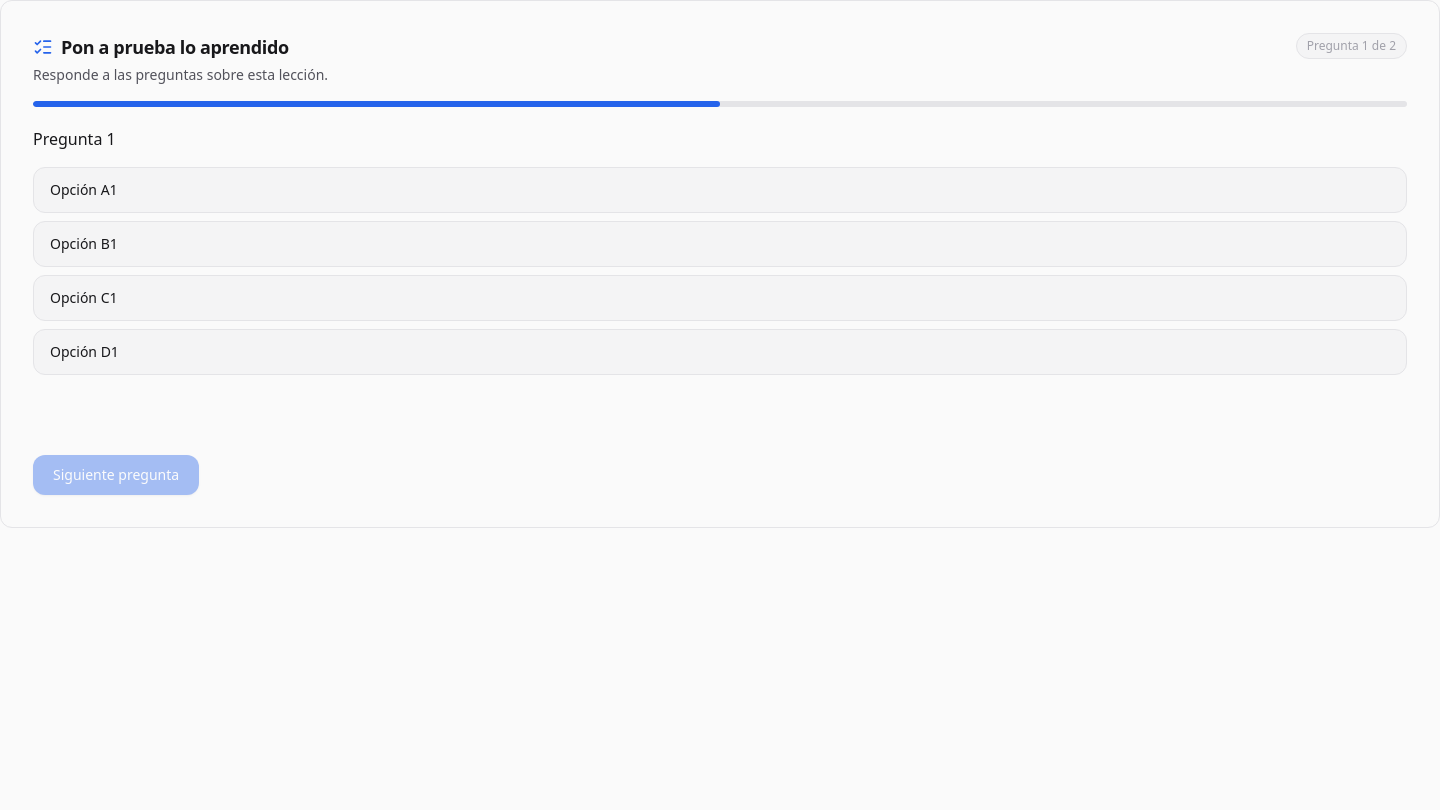
it: LessonQuiz › registra el resultado final y otorga XP e insignias
Click the button "Opción B1" at (84, 244), box [33,221,1407,267]
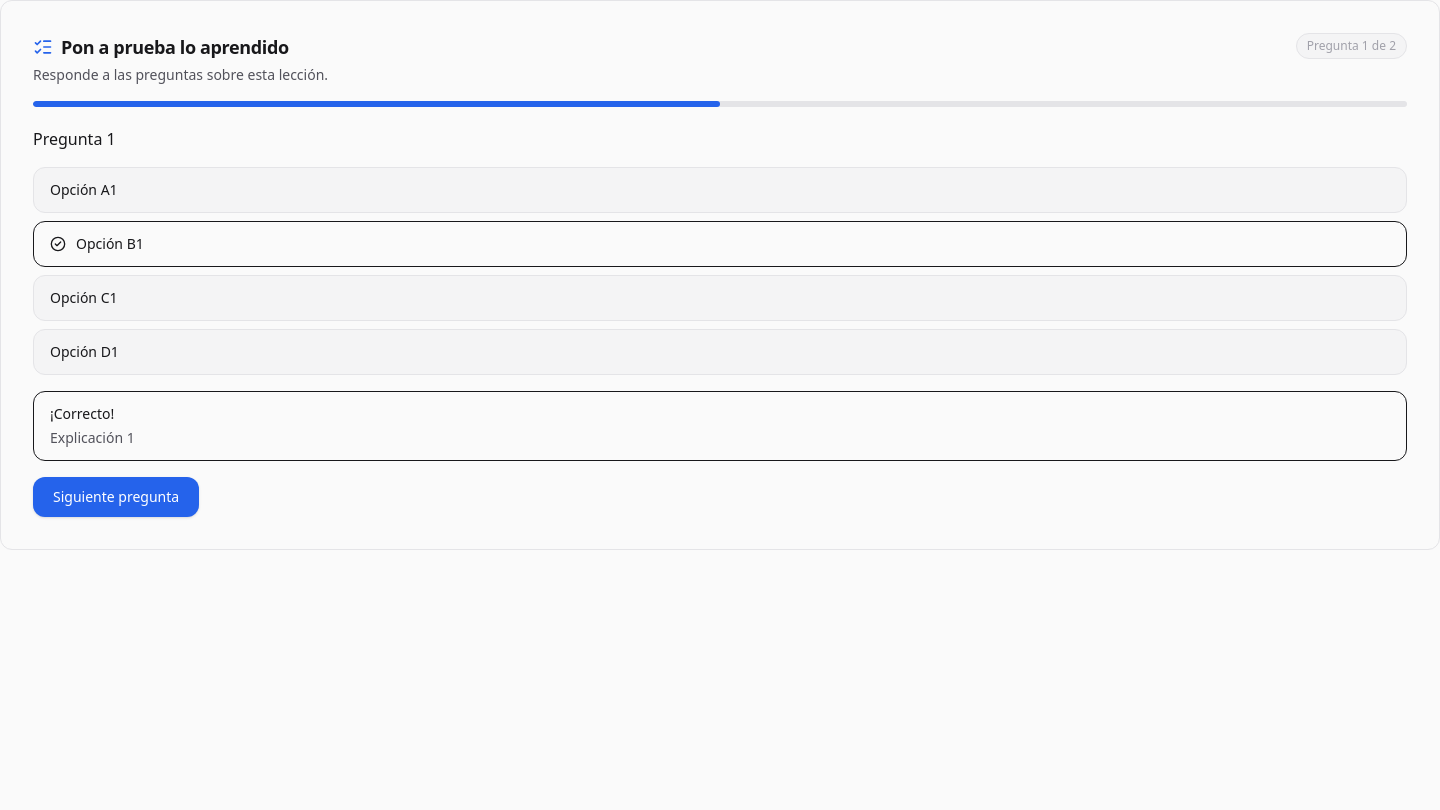
Click the button "Siguiente pregunta" at (116, 497), box [33,477,199,517]
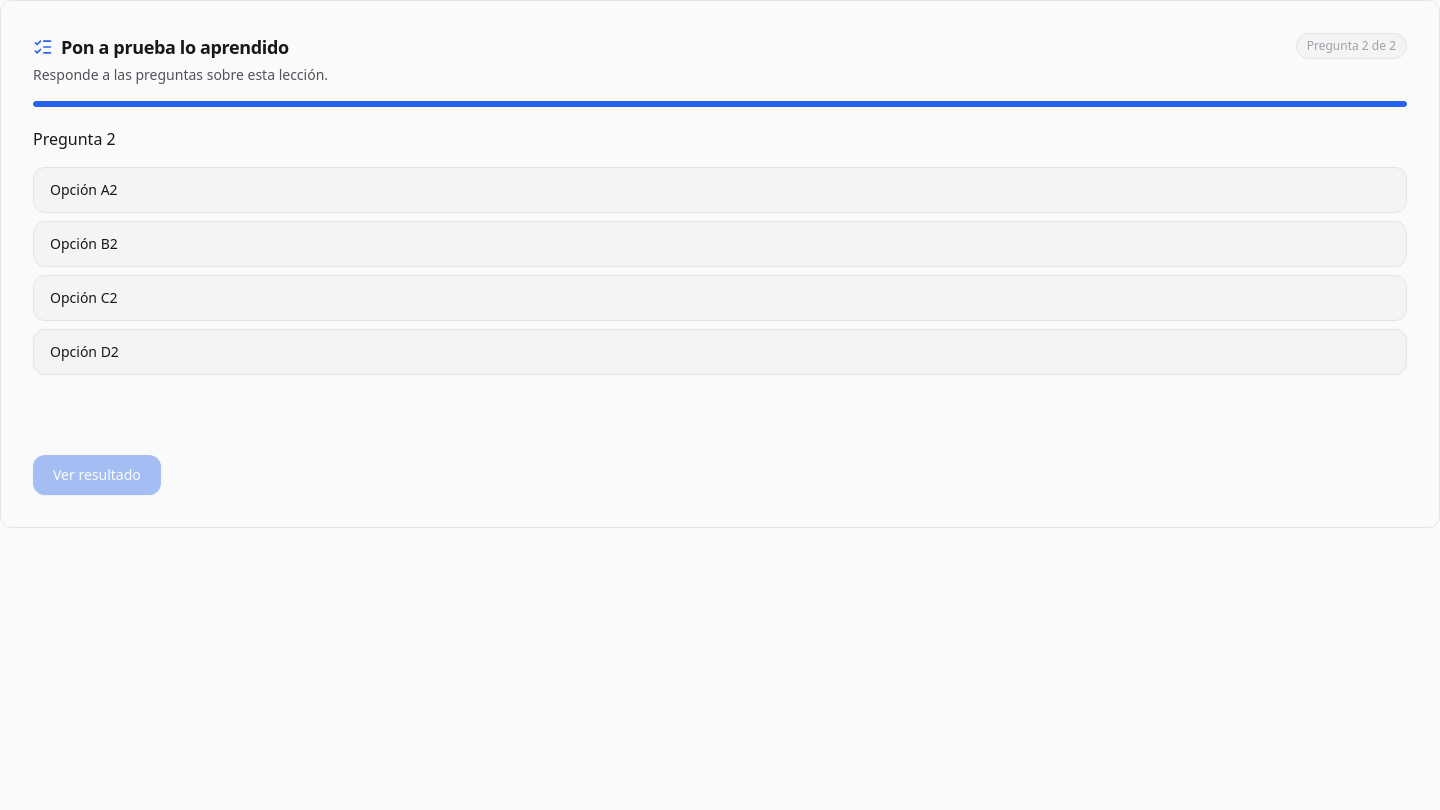
Click the button "Opción C2" at (84, 298), box [33,275,1407,321]
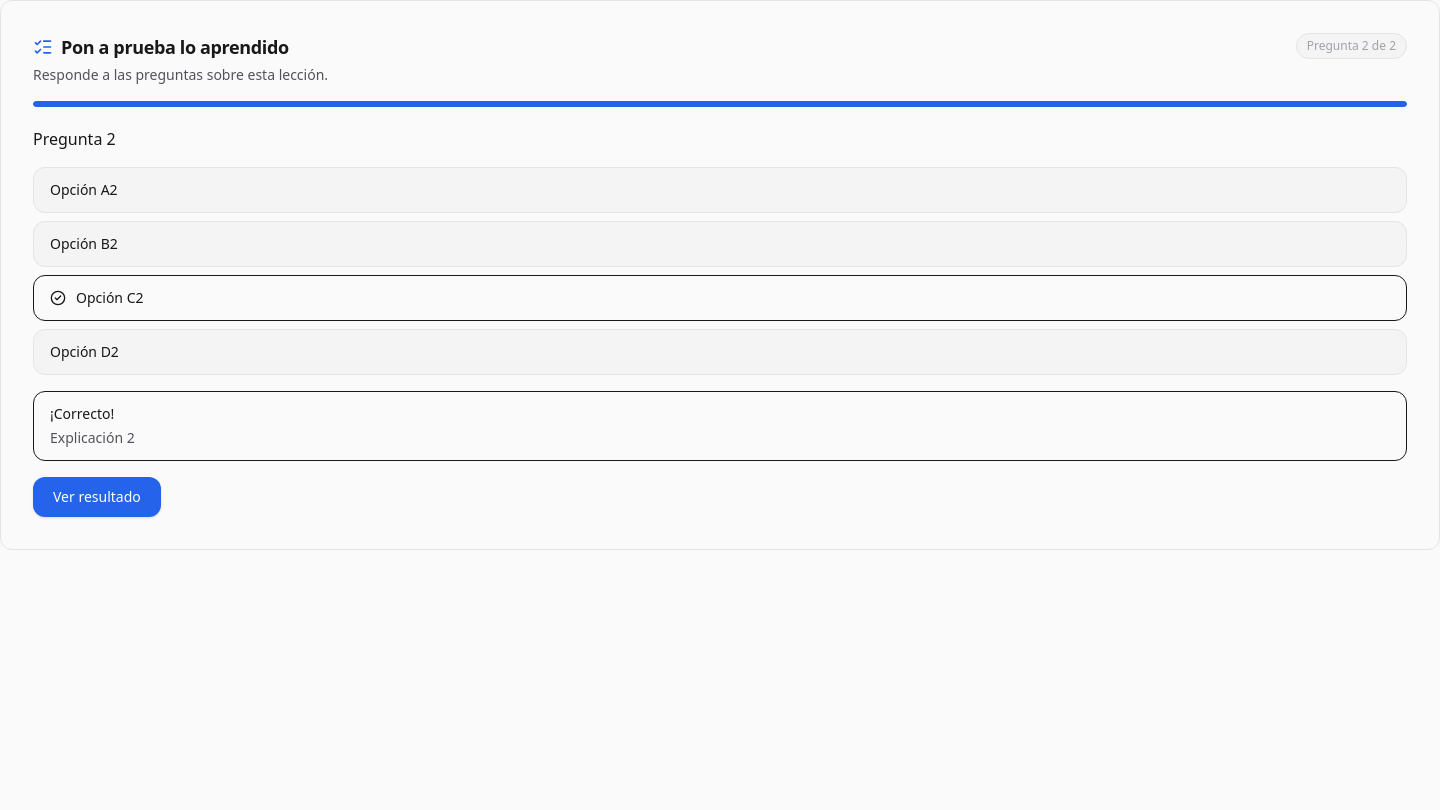
Click the button "Ver resultado" at (97, 497), box [33,477,161,517]
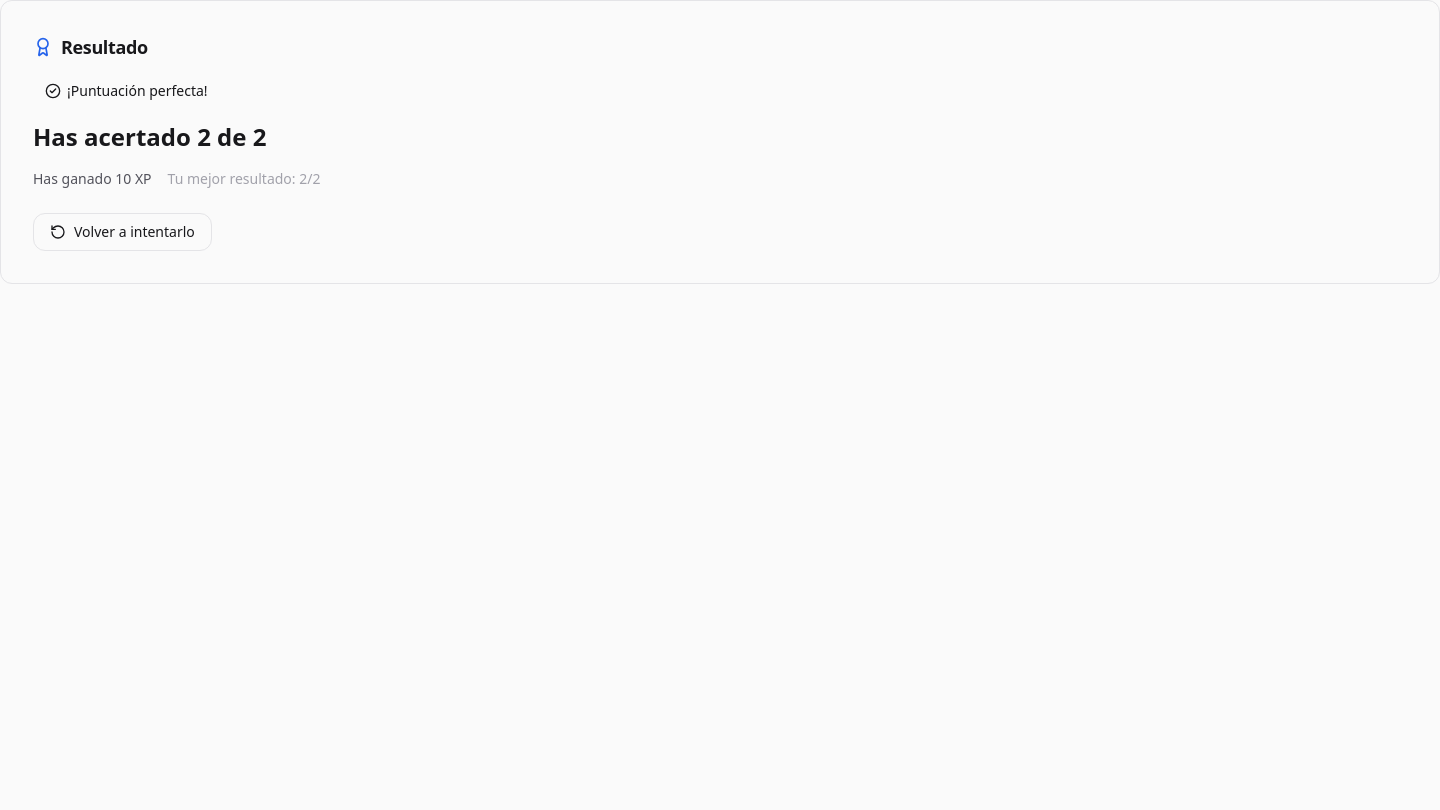
Expected: the heading "Resultado" is shown, [61,33,148,61]
Expected: the text "¡Puntuación perfecta!" is shown, [33,77,220,105]
Expected: the text "Has acertado 2 de 2" is shown, [33,120,266,153]
